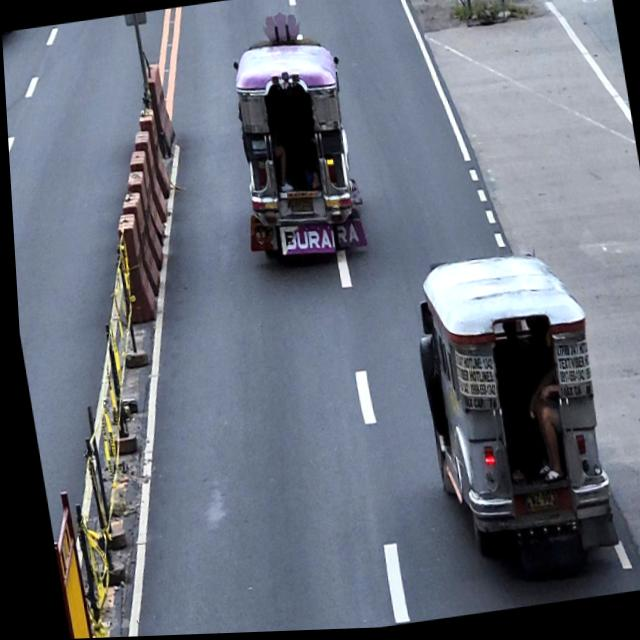Jeep: (400, 245, 618, 584), (211, 6, 369, 274)
License-Plate: (518, 491, 552, 519), (283, 194, 313, 219)
